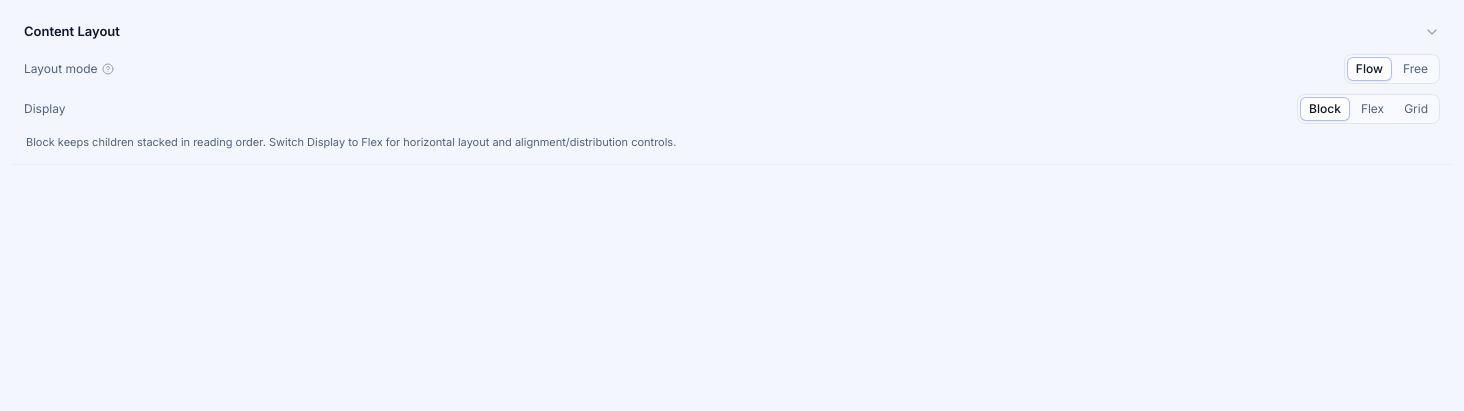
Test case: InspectorLayoutSection — Flow display: Block/Flex/Grid (Checkpoint 3.5) › shows a plain-language hint pointing to Flex for alignment while Display is Block (Checkpoint 1.15.6.1, section 10 — Flow never silently gains Flex-style contro
Expected: the text "Switch Display to Flex" is shown, top-left (26, 134), bottom-right (676, 148)
Click the button "Flex" at (1373, 108), box top-left (1352, 96), bottom-right (1393, 120)
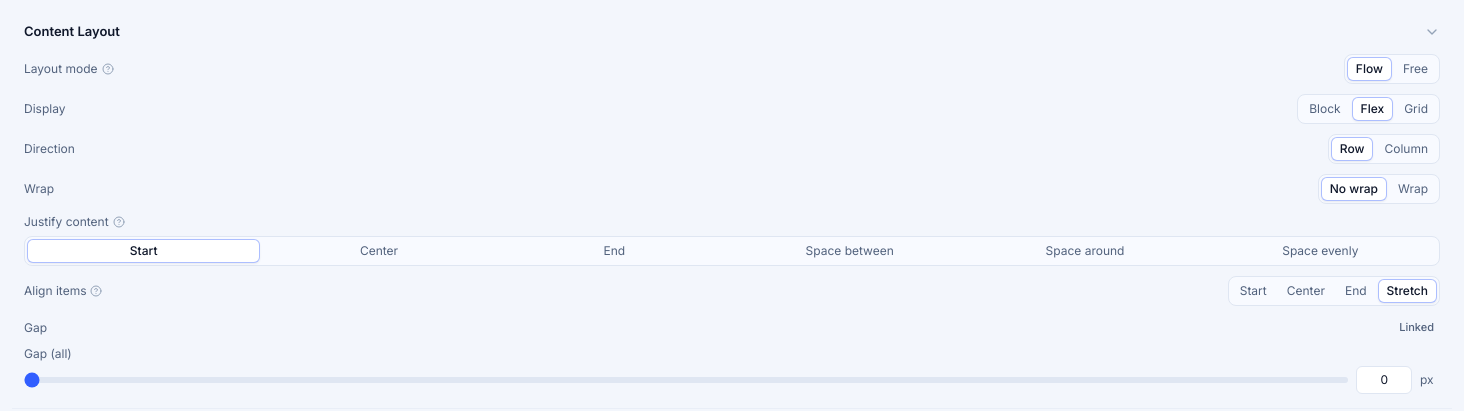
Now the text "Switch Display to Flex" is gone
